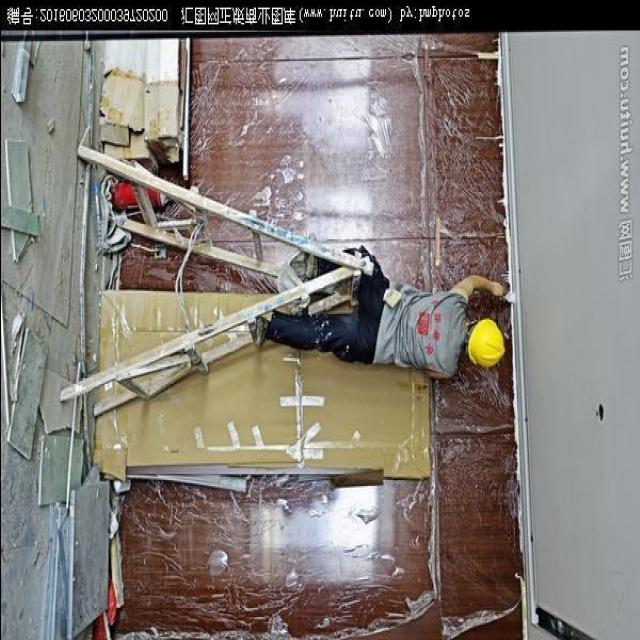helmet: (464, 307, 512, 378)
